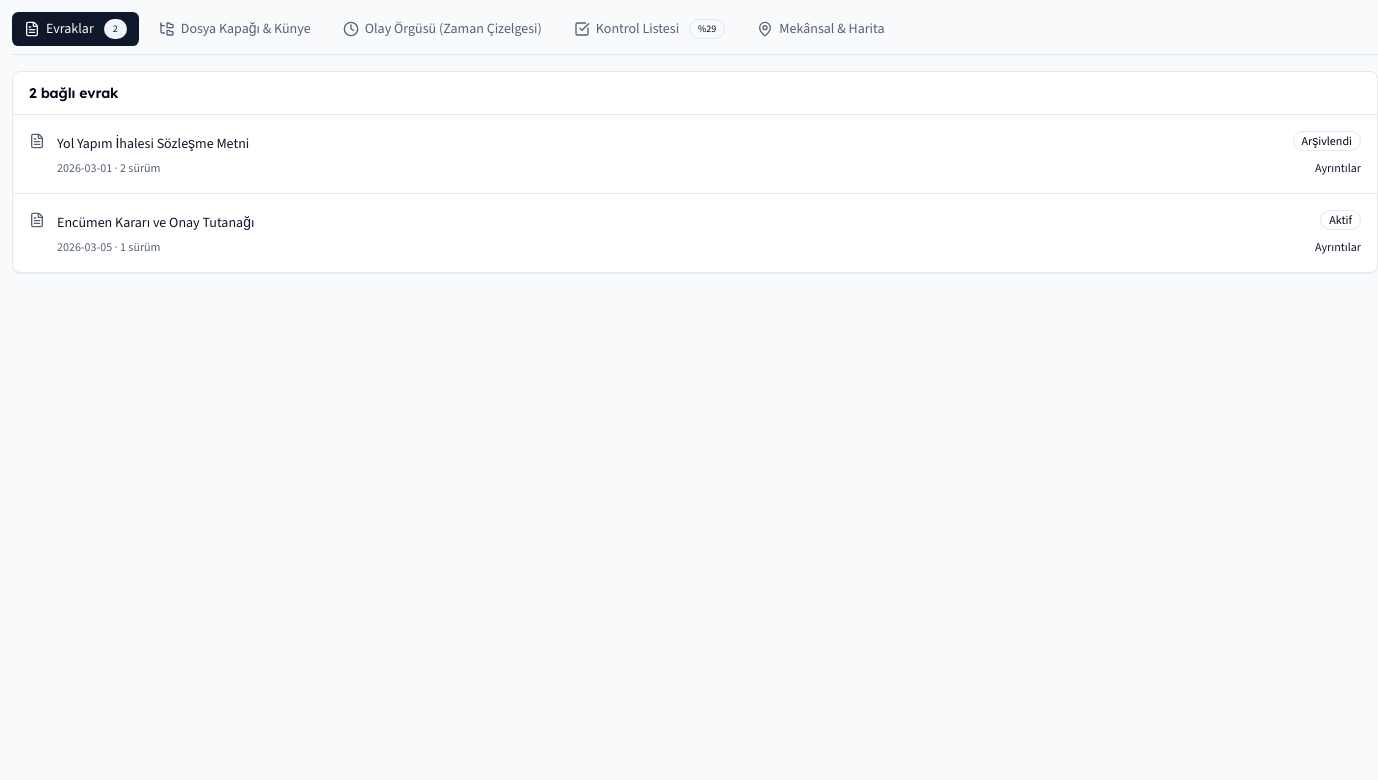
Test case: DossierWorkspaceTabs › evaluates checklist categories based on document titles
Click the button "Kontrol Listesi %29": point(650, 29) [562, 12, 737, 46]
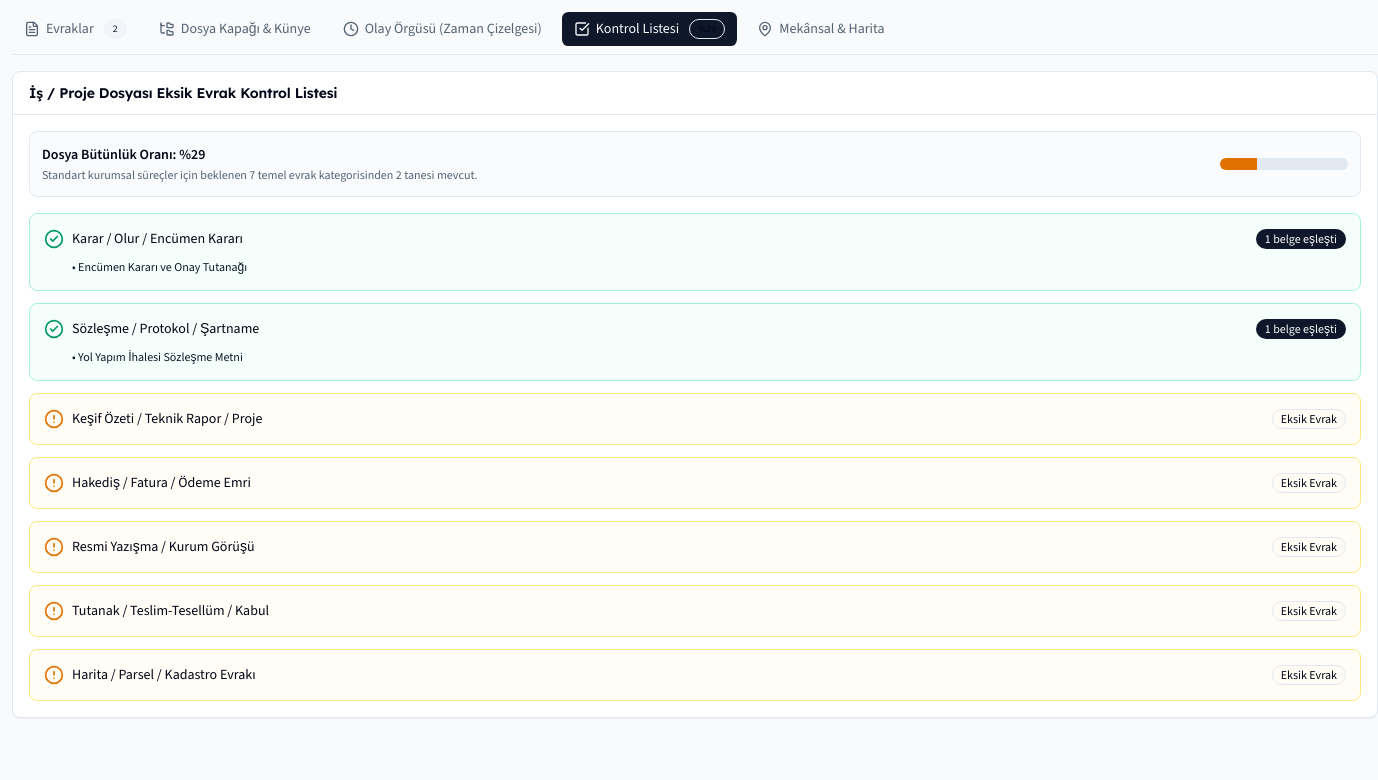
Expected: the heading "İş / Proje Dosyası Eksik Evrak Kontrol Listesi" is shown, [29, 82, 337, 104]
Expected: the text "Karar / Olur / Encümen Kararı" is shown, [72, 228, 243, 250]
Expected: the text "Sözleşme / Protokol / Şartname" is shown, [72, 318, 259, 340]
